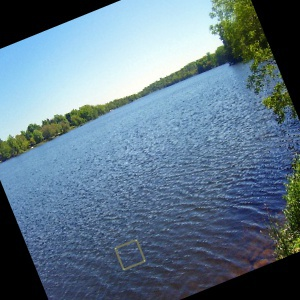square: (111, 236, 149, 273)
